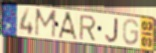4: (18, 7, 36, 37)
A: (57, 11, 79, 42)
G: (122, 18, 140, 46)
J: (104, 17, 119, 44)
M: (33, 8, 59, 40)
R: (79, 14, 98, 41)
